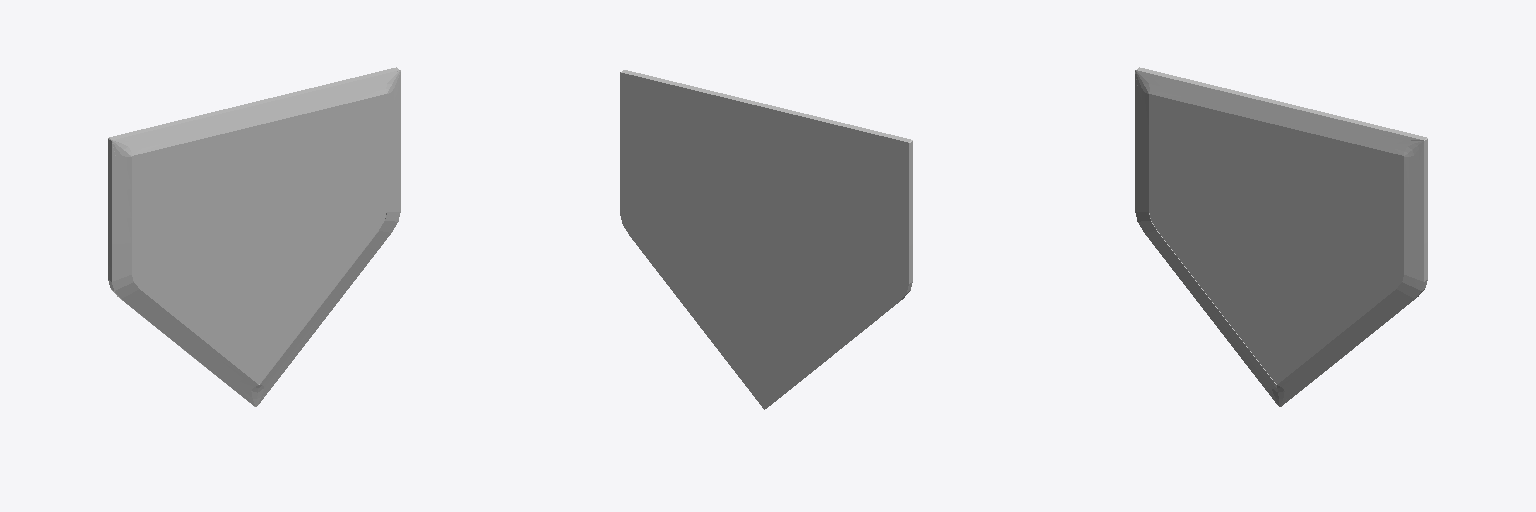
File: homebase.obj
3 renders of one model, left to right at view 1: azimuth 30°, elevation 25°; view 2: azimuth 150°, elevation 25°; view 3: azimuth 330°, elevation 25°, orthographic.
Parts seen in each view (by area): view 1: 10486_baseball_homeplate; view 2: 10486_baseball_homeplate; view 3: 10486_baseball_homeplate.
Boxes of the visible parts, <box> form: 10486_baseball_homeplate: <box>108,67,400,406</box>; 10486_baseball_homeplate: <box>620,70,912,409</box>; 10486_baseball_homeplate: <box>1135,67,1427,406</box>.
Size of the model in its own units: 30.08 by 30.03 by 1.25.